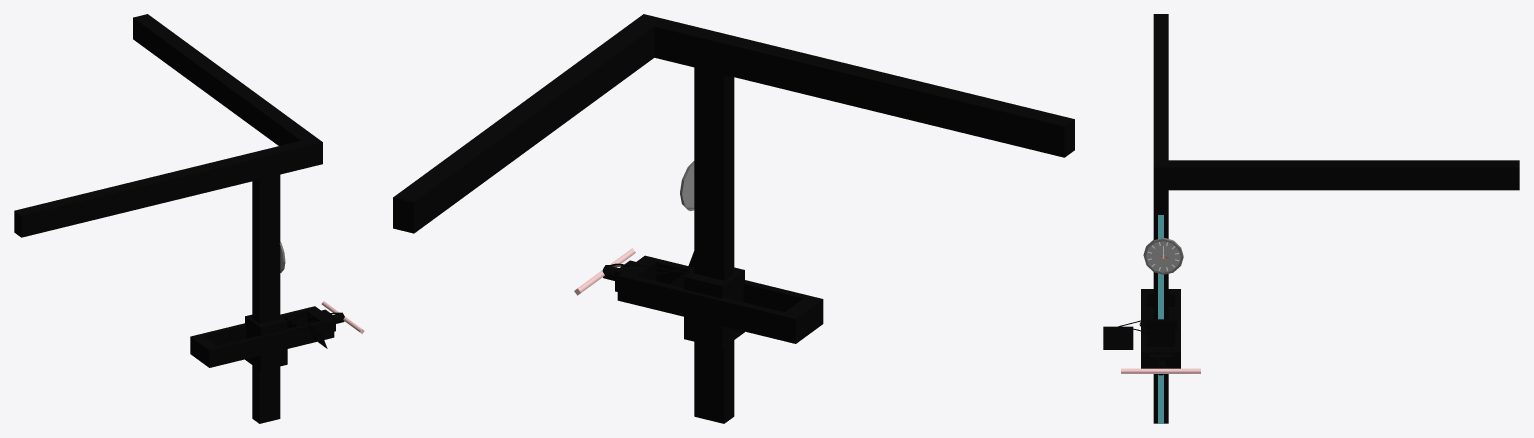
File: strength-2.glb
3 renders of one model, left to right at view 1: azimuth 30°, elevation 25°; view 2: azimuth 150°, elevation 25°; view 3: azimuth 270°, elevation 25°, orthographic. The views are drawn at different scales.
Parts seen in each view (by area): view 1: object_7, object_6, object_17, object_16; view 2: object_7, object_6, object_17, object_16; view 3: object_7, object_14, 1_409, object_17, object_16, object_15, object_10, object_20, object_5.
Boxes of the visible parts, bbox=[...] form: object_7: bbox=[14, 14, 322, 237]; object_6: bbox=[252, 174, 280, 423]; object_17: bbox=[190, 306, 334, 367]; object_16: bbox=[245, 314, 287, 370]; object_7: bbox=[393, 14, 1074, 233]; object_6: bbox=[694, 67, 734, 423]; object_17: bbox=[617, 255, 823, 343]; object_16: bbox=[684, 267, 744, 348]; object_7: bbox=[1153, 14, 1519, 190]; object_14: bbox=[1153, 214, 1168, 423]; 1_409: bbox=[1143, 238, 1183, 274]; object_17: bbox=[1141, 289, 1180, 352]; object_16: bbox=[1144, 307, 1177, 335]; object_15: bbox=[1158, 215, 1163, 423]; object_10: bbox=[1105, 328, 1130, 347]; object_20: bbox=[1121, 368, 1200, 373]; object_5: bbox=[1153, 190, 1168, 214].
Bounding box in the file's own units: 10.17 × 7.89 × 10.72.
6 materials, 1 textured.
